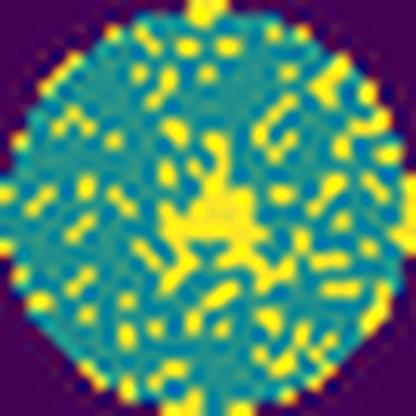Center: (134, 131, 303, 296)
